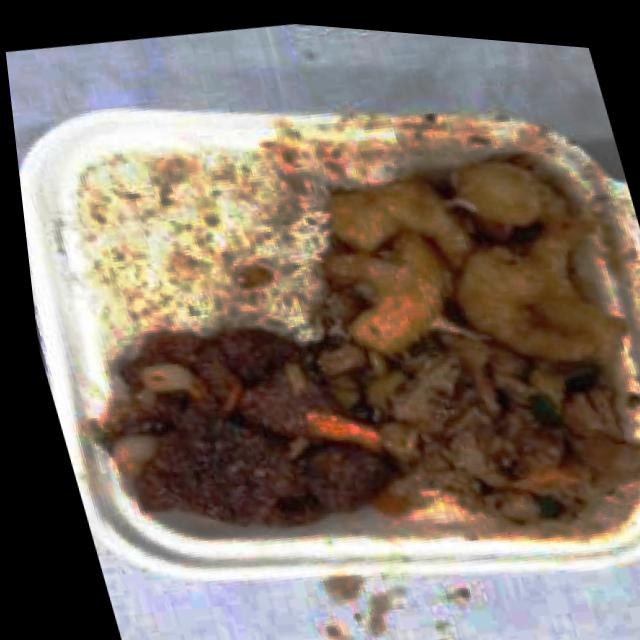Beijing Beef: (98, 305, 398, 574)
Kung Pao Chicken: (370, 331, 640, 553)
rice: (73, 142, 344, 346)
